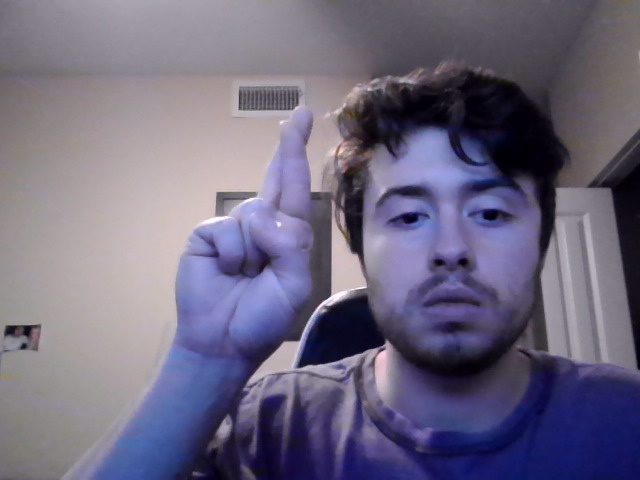r: (175, 105, 316, 388)
